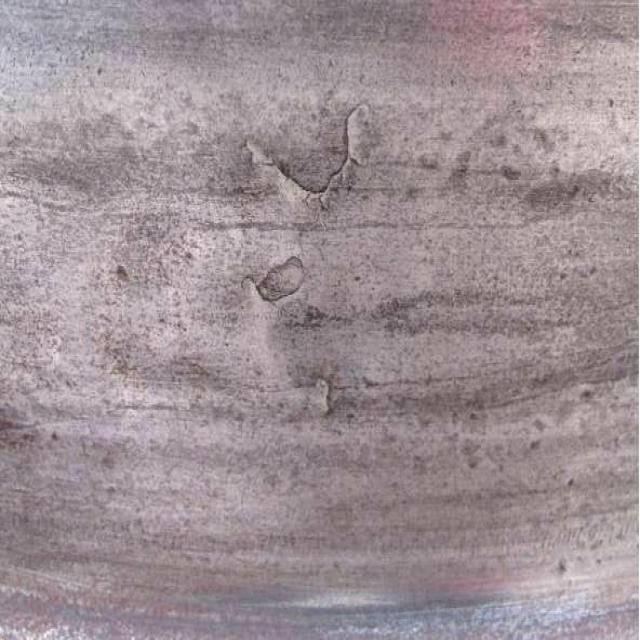Contact_Fatigue_Cracks: (249, 104, 373, 199)
Peeling: (241, 254, 311, 307), (310, 376, 337, 420)
